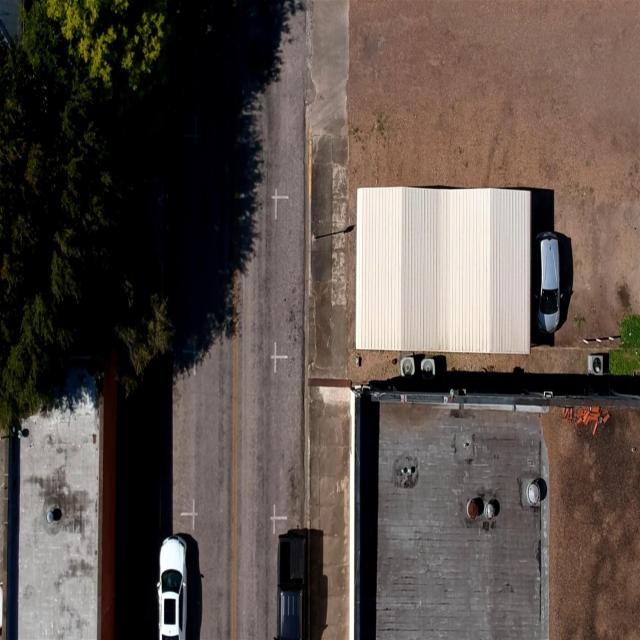Car: (154, 534, 188, 640)
Truck: (273, 528, 310, 640)
Van: (534, 232, 564, 339)
